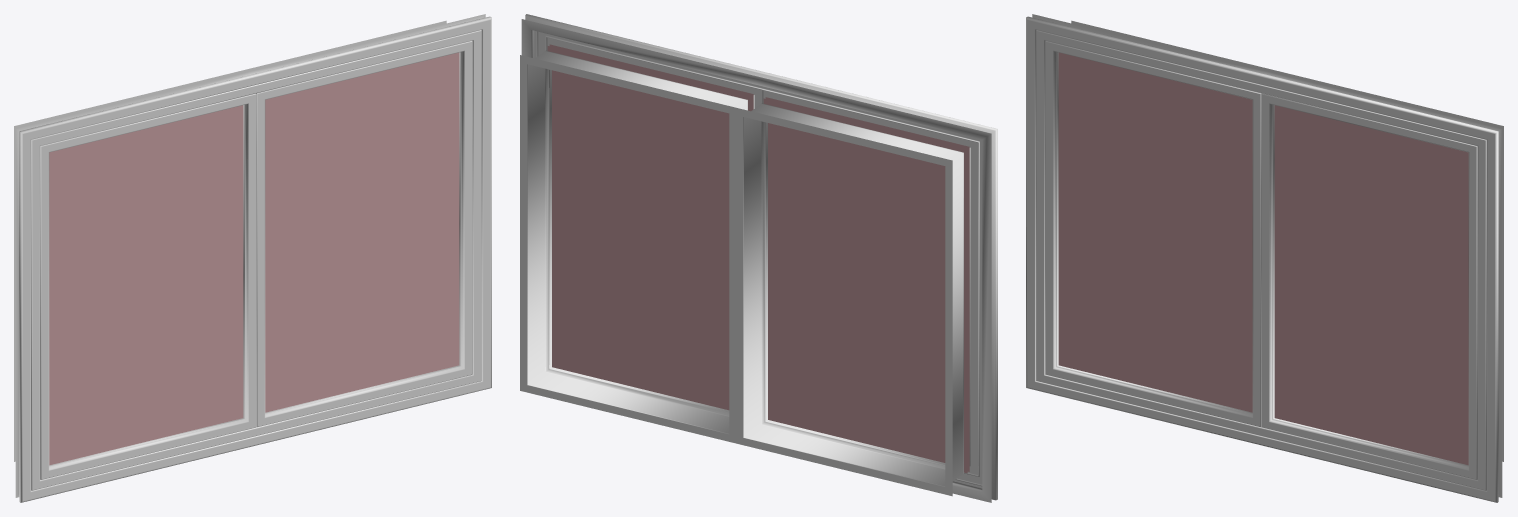
File: WindowFixedDouble.fbx
The picture shows the model from 3 angles, left to right: view 1: azimuth 30°, elevation 25°; view 2: azimuth 150°, elevation 25°; view 3: azimuth 330°, elevation 25°; orthographic projection.
Parts seen in each view (by area): view 1: Window_LOD0; view 2: Window_LOD0; view 3: Window_LOD0.
Boxes of the visible parts, bbox=[...] form: Window_LOD0: bbox=[14, 14, 491, 502]; Window_LOD0: bbox=[520, 14, 997, 502]; Window_LOD0: bbox=[1026, 14, 1503, 502].
Size of what is drawn, in the model's own units: 504 by 379 by 49.03.
